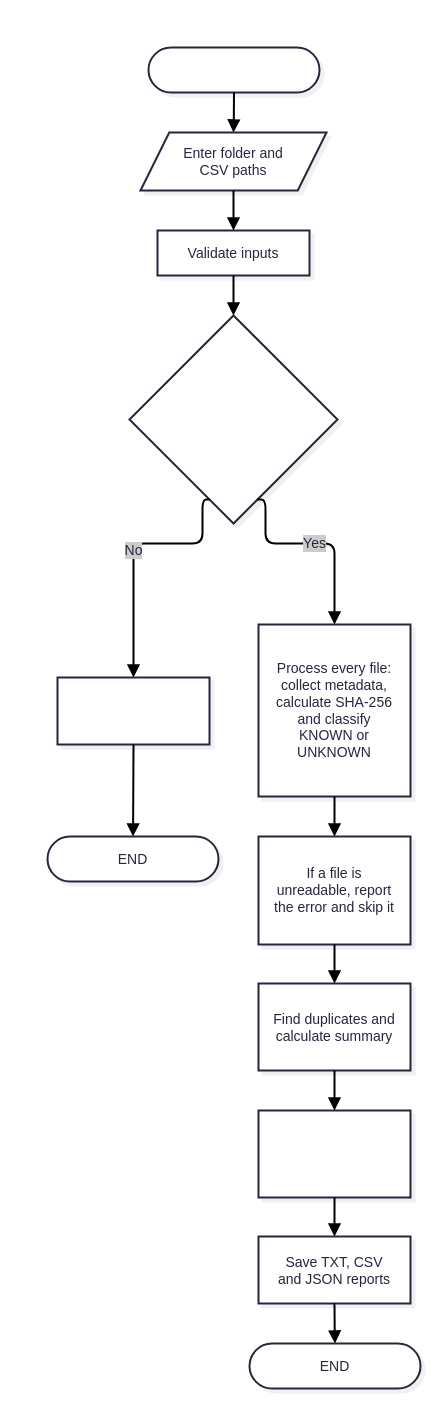
The diagram is 442 pixels wide and 1410 high, and some of its shapes have lost their labels. Here are the shapes that lost their labels. From the top down, the centre of each, then its label:
the point at 235,71: START
the point at 235,421: Inputs valid?
the point at 135,712: Display error and stop
the point at 336,1155: Display results and summary in terminal
